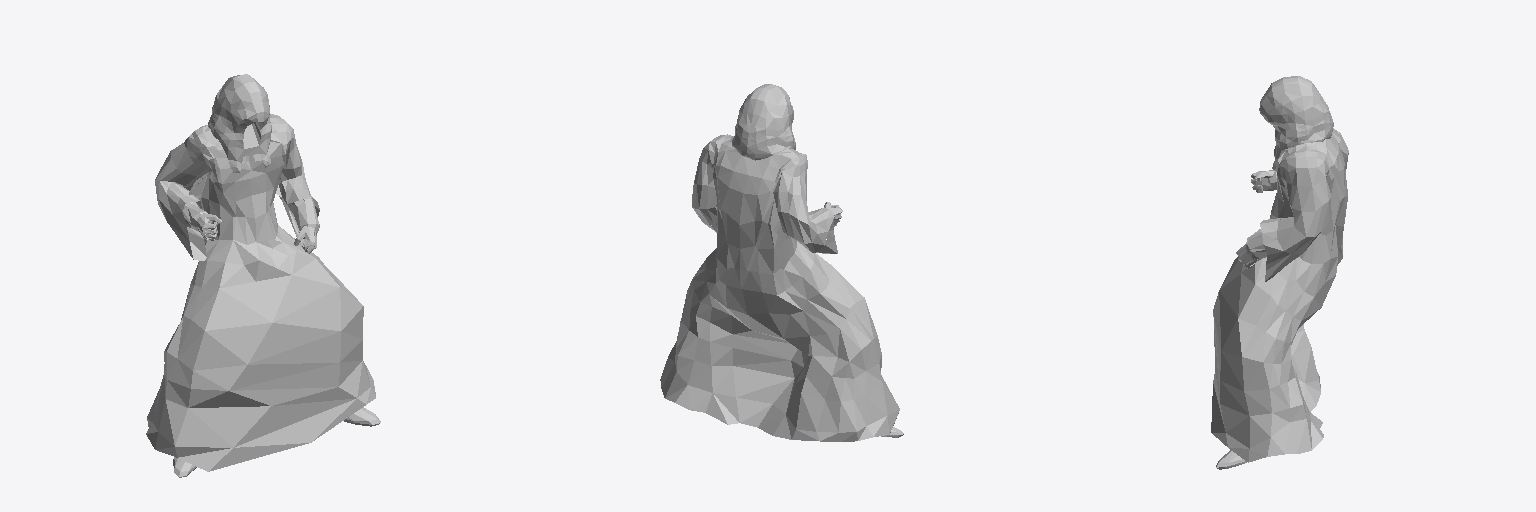
Rendered from Fellbeast_Animate_Flying_27.obj.
The picture shows the model from 3 angles: view 1: azimuth 30°, elevation 25°; view 2: azimuth 150°, elevation 25°; view 3: azimuth 270°, elevation 25°; orthographic projection.
Visible parts, largest first — view 1: dm_nazgulrobe_ride_241108; view 2: dm_nazgulrobe_ride_241108; view 3: dm_nazgulrobe_ride_241108.
Boxes of the visible parts, <box> form: dm_nazgulrobe_ride_241108: <box>146,74,380,477</box>; dm_nazgulrobe_ride_241108: <box>660,84,903,441</box>; dm_nazgulrobe_ride_241108: <box>1211,76,1348,469</box>.
Bounding box in the file's own units: 0.4417 × 0.668 × 0.2371.